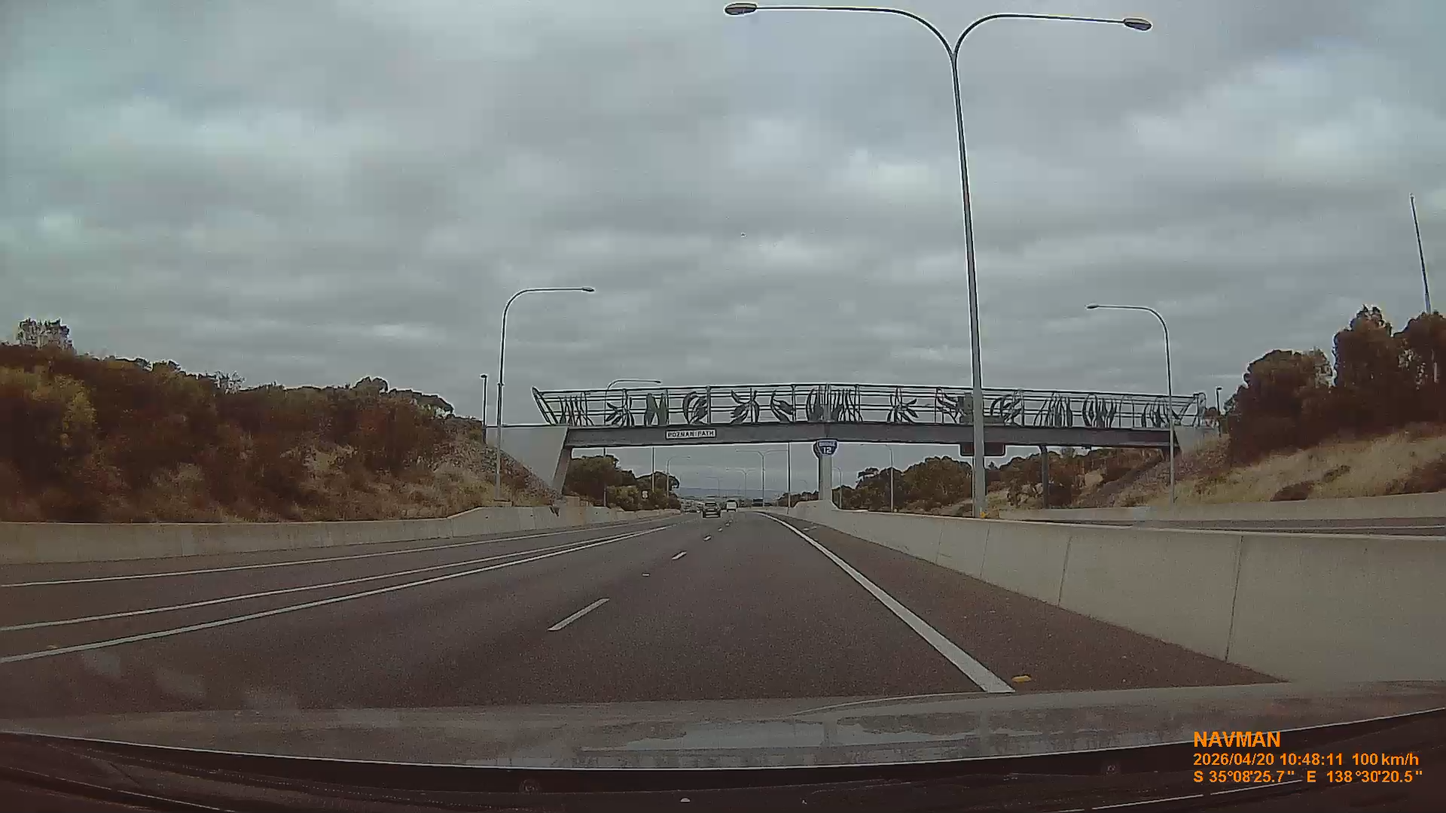road barriers: (792, 502, 1445, 681), (0, 505, 676, 565), (1002, 492, 1445, 523)
